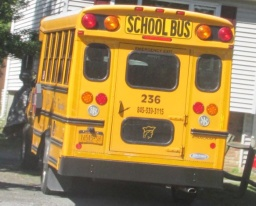bus: (34, 6, 233, 206)
